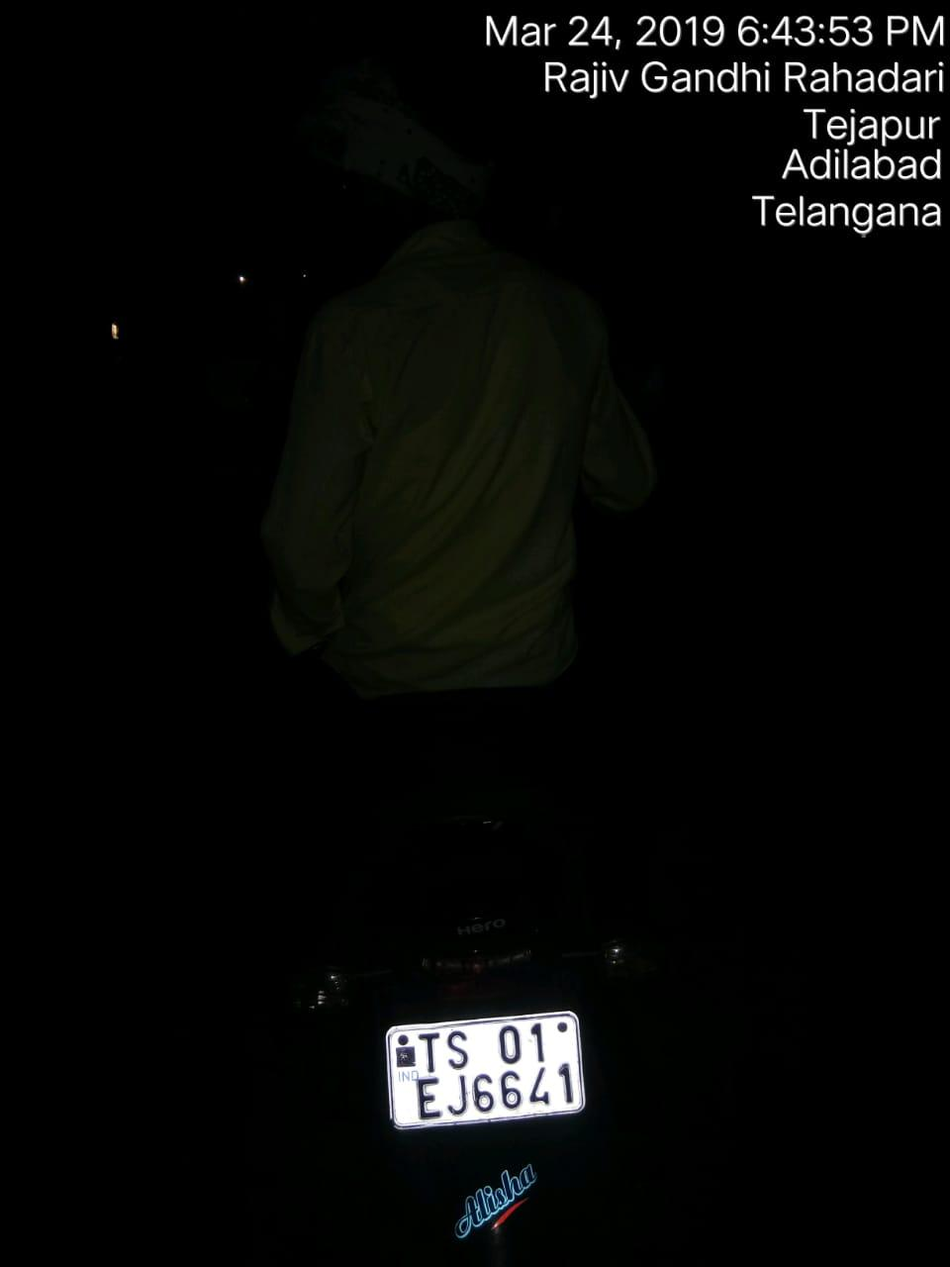plate: (352, 998, 613, 1146)
